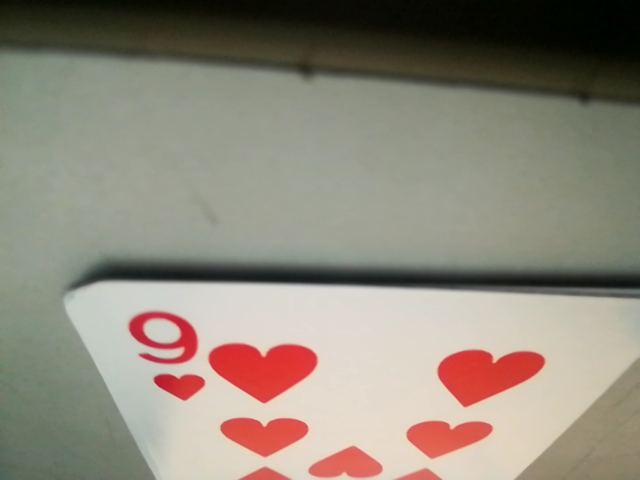hx 9: (114, 292, 218, 403)
